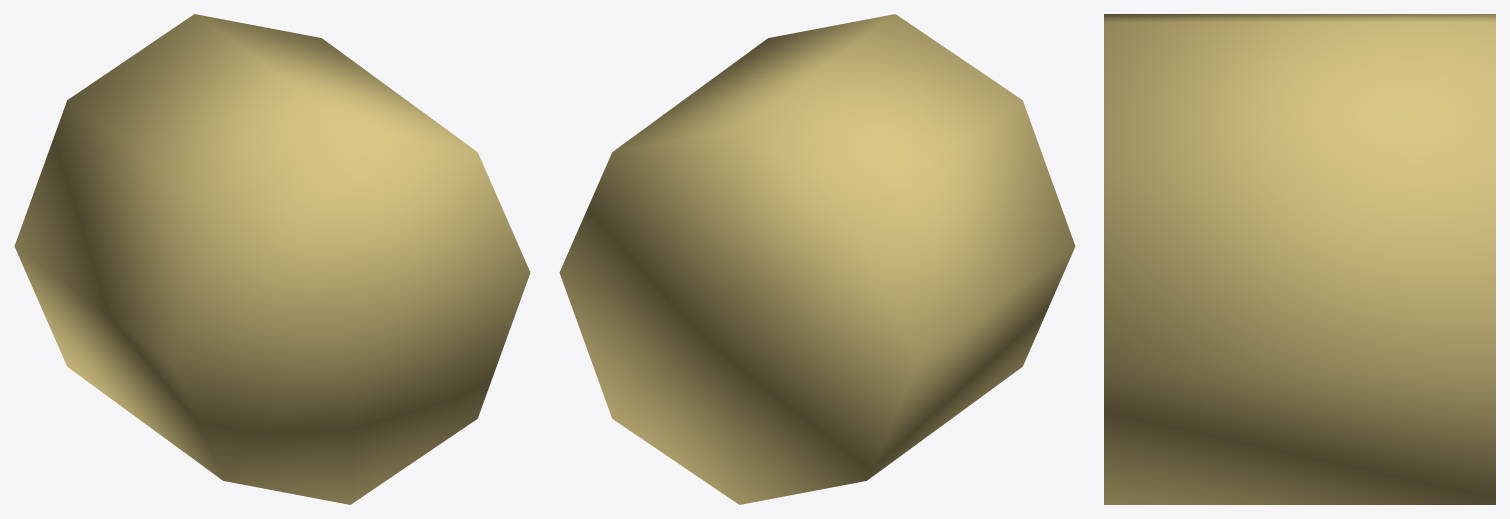
The model's file is prop_feed.glb.
The picture shows the model from 3 angles, left to right: view 1: azimuth 30°, elevation 25°; view 2: azimuth 150°, elevation 25°; view 3: azimuth 270°, elevation 25°; orthographic projection. The views are drawn at different scales.
Visible parts, largest first — view 1: hay; view 2: hay; view 3: hay.
Part boxes in pixels (box(x1,y1,x2,y2)): hay: box(14, 14, 530, 504); hay: box(559, 14, 1075, 504); hay: box(1104, 14, 1495, 504).
Bounding box in the file's own units: 0.32 × 0.32 × 0.24.
